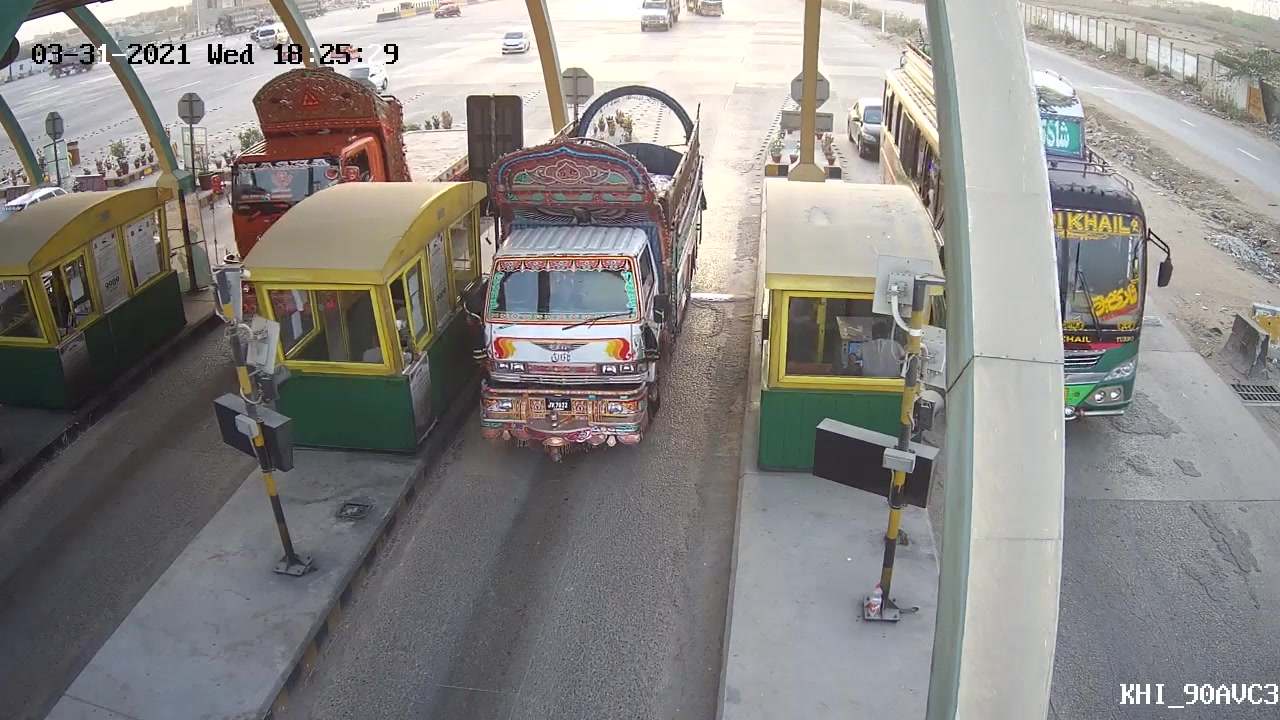F5: (453, 76, 710, 471)
